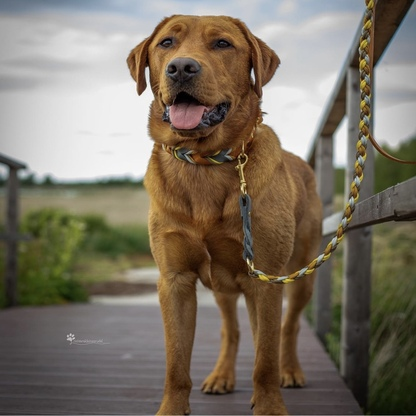labrado: (123, 12, 327, 416)
